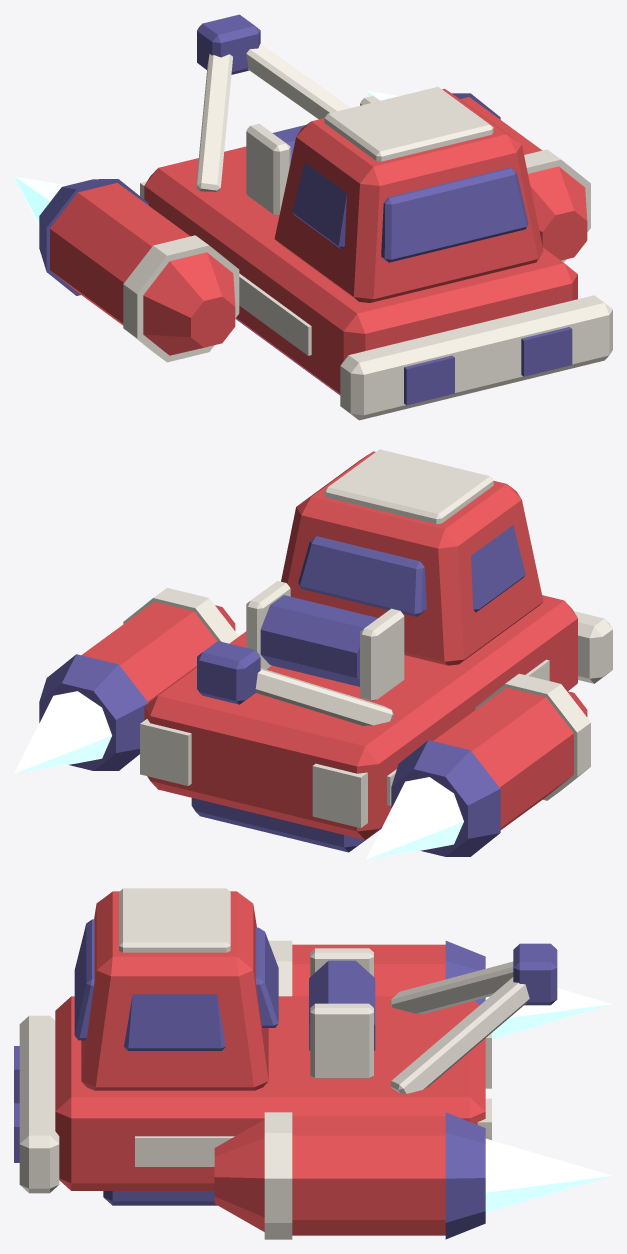
The model's file is tow_ship.glb.
3 views of the same model, one above another, from view 1: azimuth 30°, elevation 25°; view 2: azimuth 150°, elevation 25°; view 3: azimuth 270°, elevation 25° (orthographic).
Parts seen in each view (by area): view 1: TowBody, TowThrusterGlow; view 2: TowBody, TowThrusterGlow; view 3: TowBody, TowThrusterGlow.
Boxes of the visible parts, x1,y1,x2,y2 form: TowBody: [39, 14, 612, 420]; TowThrusterGlow: [14, 90, 399, 225]; TowBody: [39, 449, 612, 856]; TowThrusterGlow: [14, 691, 463, 859]; TowBody: [14, 888, 557, 1239]; TowThrusterGlow: [485, 967, 612, 1212].
Size of what is drawn, in the model's own units: 0.6578 by 0.352 by 0.752.
